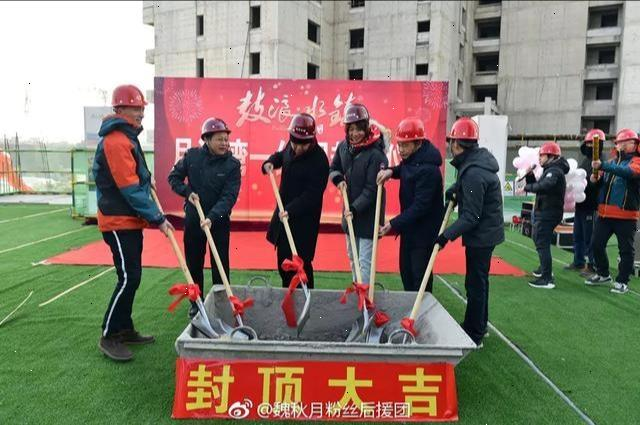helmet: (108, 82, 149, 110), (392, 116, 428, 143), (448, 116, 484, 142), (288, 113, 315, 141), (342, 104, 372, 126), (200, 116, 232, 136), (616, 129, 640, 143), (538, 141, 560, 155), (586, 129, 606, 142)
no_wear: (99, 128, 152, 224), (334, 142, 384, 237), (451, 158, 502, 246), (277, 146, 318, 239), (182, 151, 231, 225), (401, 150, 440, 241), (602, 154, 640, 210), (536, 164, 564, 224)
